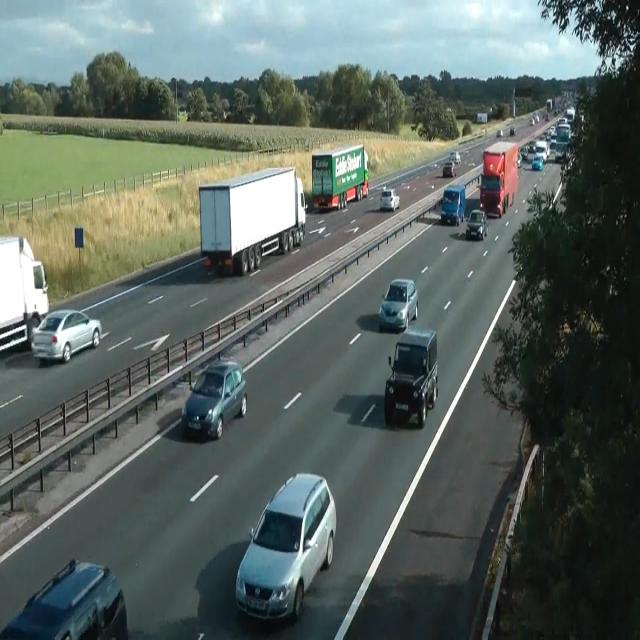bus: (31, 308, 102, 364), (378, 277, 418, 331), (465, 209, 487, 241), (380, 188, 400, 212), (442, 160, 457, 177), (531, 154, 543, 170), (450, 150, 460, 164), (519, 145, 528, 159), (517, 152, 522, 168), (496, 128, 502, 137), (510, 126, 516, 135), (530, 118, 534, 126)
jeep: (235, 471, 337, 623), (1, 556, 127, 638), (181, 357, 247, 440), (384, 327, 438, 428), (440, 184, 466, 226)
minibus: (198, 166, 306, 276), (0, 235, 49, 353), (311, 143, 369, 212), (479, 140, 519, 218), (554, 122, 570, 162), (546, 98, 556, 111), (477, 113, 487, 123)
